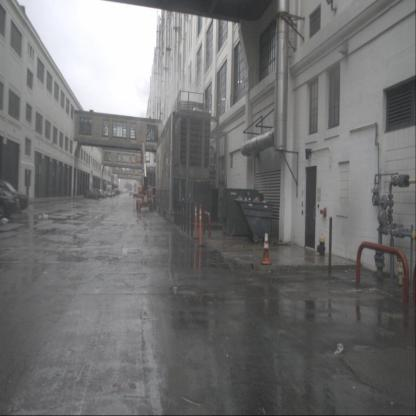cone: (261, 230, 271, 266), (197, 204, 205, 247), (192, 202, 199, 240), (132, 198, 136, 212), (138, 199, 140, 214), (152, 199, 154, 212)
